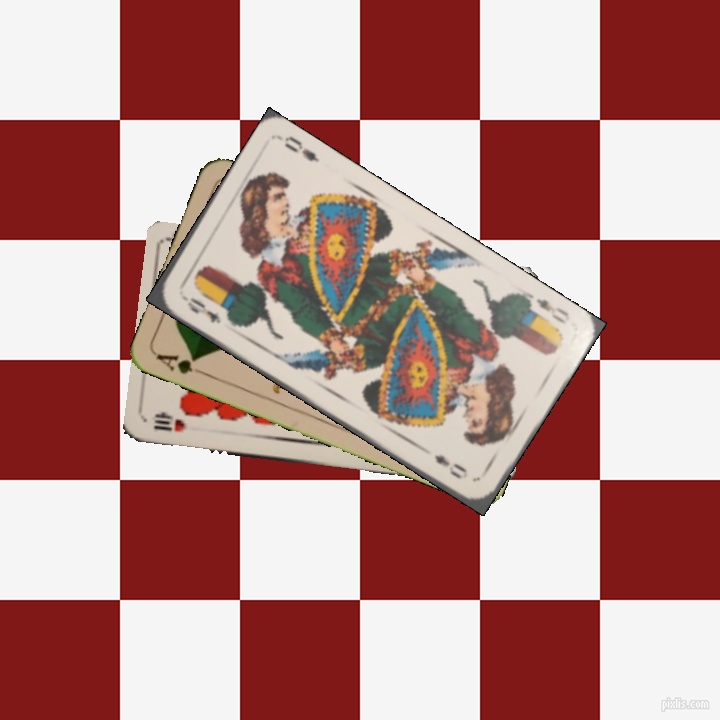EO: (521, 289, 573, 333), (177, 291, 224, 327)
GA: (153, 349, 210, 379)
H10: (149, 412, 188, 435)
